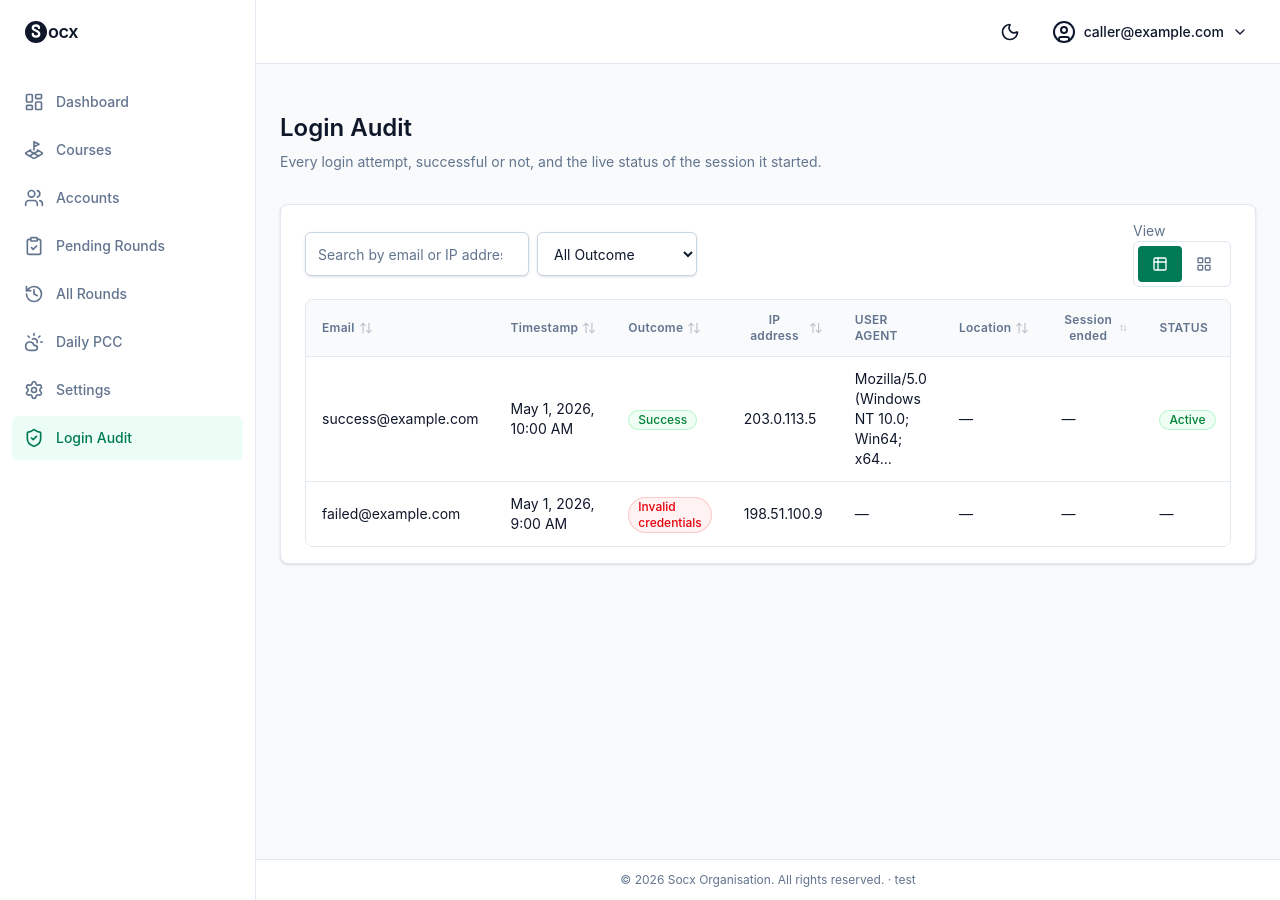
Scenario: AdminLoginAttemptsPage › ghs#236: shows a truncated User-Agent with the full value in a tooltip, and '--' when none was captured
Expected: the text "success@example.com" is shown, [306,356,495,482]
Hover over the text "Mozilla/5.0 (Windows NT 10.0; Win64; x64…" at (891, 419), box [855,369,927,469]
Wait 400 ms
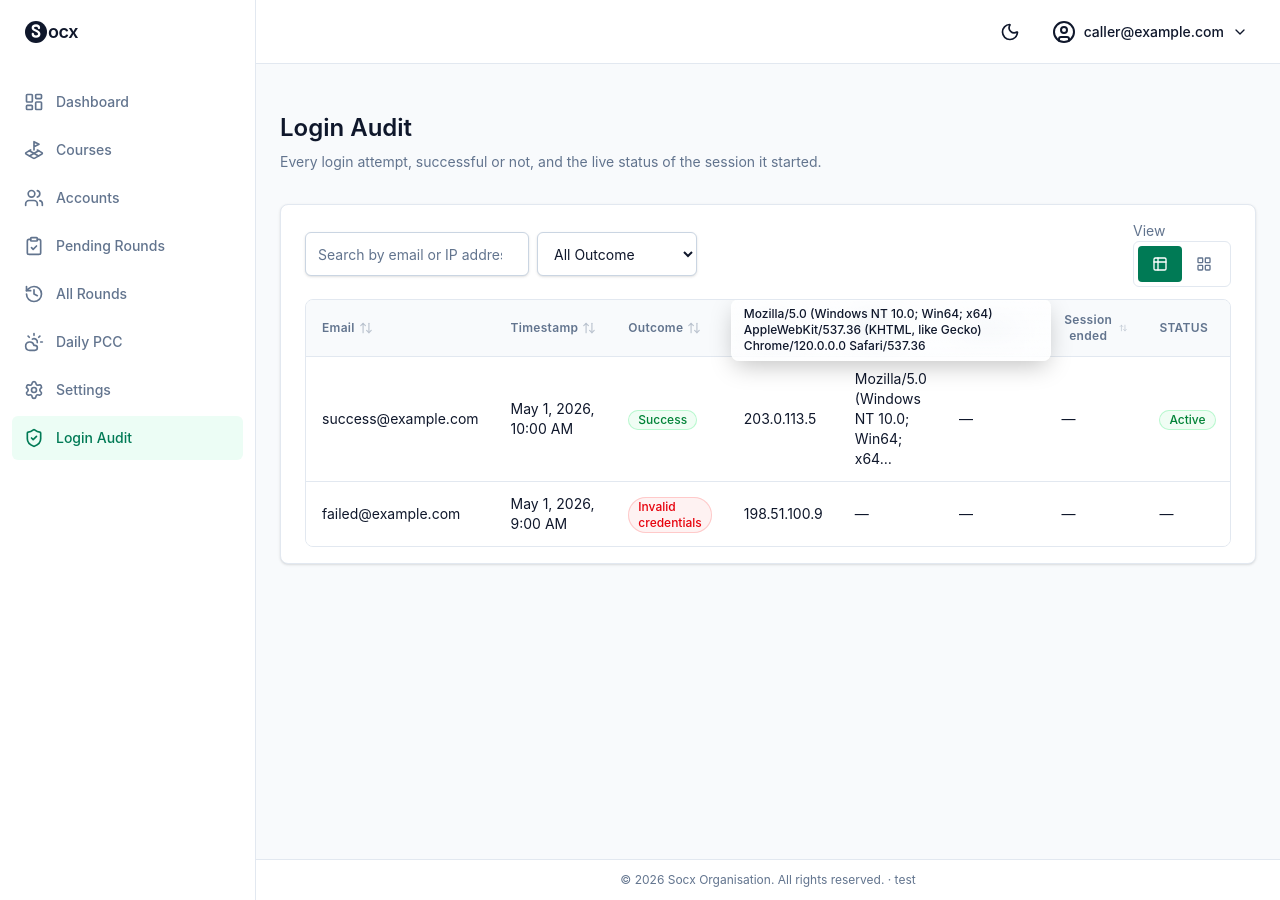
Expected: the 3rd cell "—" is shown, [839,482,943,546]
Expected: the tooltip shows "Mozilla/5.0 (Windows NT 10.0; Win64; x64) AppleWebKit/537.36 (KHTML, like Gecko) Chrome/120.0.0.0 Safari/537.36", [744,306,993,353]
